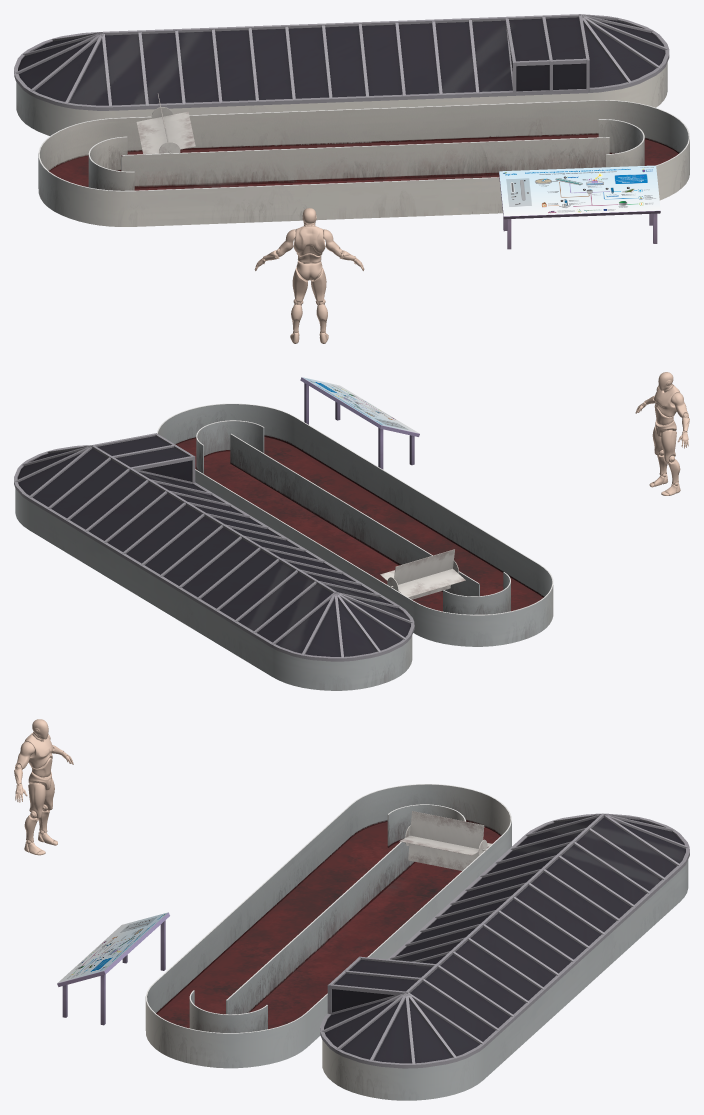
The model's file is Reactor_MOV.glb.
3 views of the same model, one above another, from view 1: azimuth 30°, elevation 25°; view 2: azimuth 150°, elevation 25°; view 3: azimuth 270°, elevation 25° (orthographic). The views are drawn at different scales.
Parts seen in each view (by area): view 1: Object003, Shape008, Object012, Object015, UDK_man001, Object001, Box035; view 2: Object003, Shape008, Object015, UDK_man001, Object001, Box035, Object012; view 3: Object003, Shape008, Object015, Object001, UDK_man001, Object012, Box035.
Part boxes in pixels (box(x1,y1,x2,y2)): Object003: box(38, 100, 689, 226); Shape008: box(14, 14, 669, 110); Object012: box(499, 165, 660, 216); Object015: box(16, 62, 667, 135); UDK_man001: box(254, 208, 364, 343); Object001: box(136, 93, 195, 154); Box035: box(499, 172, 660, 249); Object003: box(157, 403, 553, 646); Shape008: box(14, 433, 414, 661); Object015: box(15, 489, 412, 690); UDK_man001: box(635, 372, 689, 495); Object001: box(380, 549, 465, 599); Box035: box(300, 377, 419, 469); Object012: box(302, 377, 419, 433); Object003: box(145, 784, 511, 1068); Shape008: box(320, 813, 689, 1068); Object015: box(322, 860, 688, 1100); Object001: box(399, 811, 491, 870); UDK_man001: box(14, 719, 73, 855); Object012: box(57, 912, 168, 983); Box035: box(57, 912, 169, 1025).
Bounding box in the file's own units: 8.75 × 1.83 × 8.84.
Materials: 6 (5 with a texture image).
